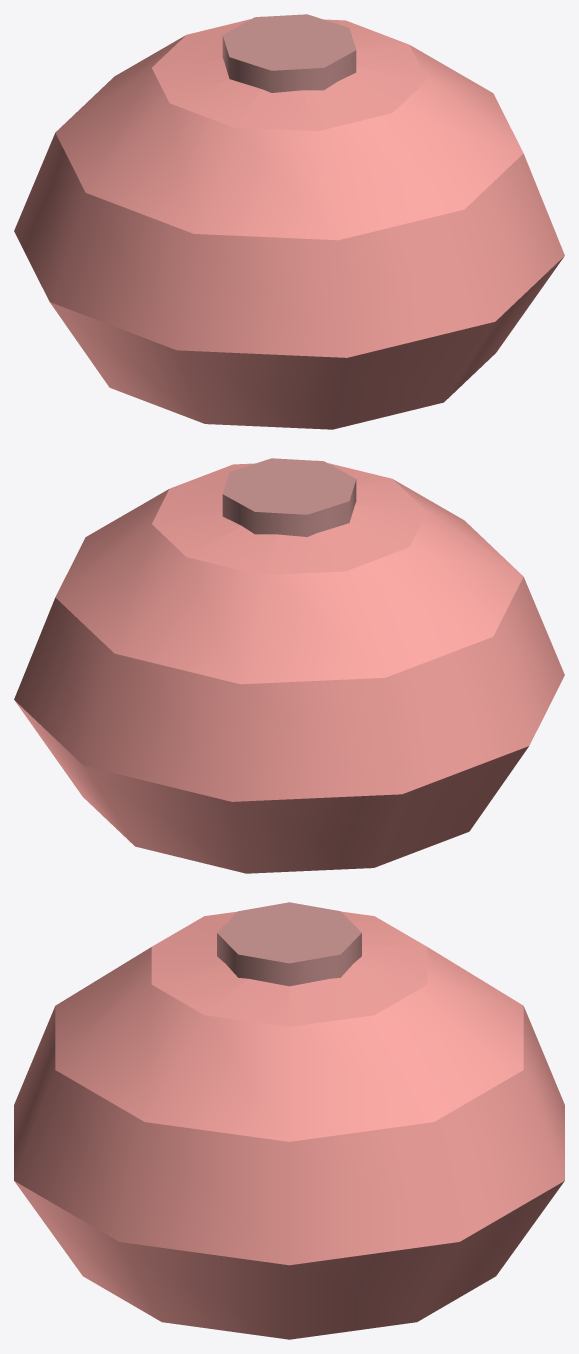
File: kidsBeanBag.glb
The picture shows the model from 3 angles, top to bottom: view 1: azimuth 30°, elevation 25°; view 2: azimuth 150°, elevation 25°; view 3: azimuth 270°, elevation 25°; orthographic projection. The views are drawn at different scales.
Visible parts, largest first — view 1: kidsBeanBag; view 2: kidsBeanBag; view 3: kidsBeanBag.
Boxes of the visible parts, x1,y1,x2,y2 form: kidsBeanBag: (14, 14, 564, 429); kidsBeanBag: (14, 458, 564, 873); kidsBeanBag: (14, 902, 564, 1339).
Bounding box in the file's own units: 0.4 × 0.25 × 0.3804.
